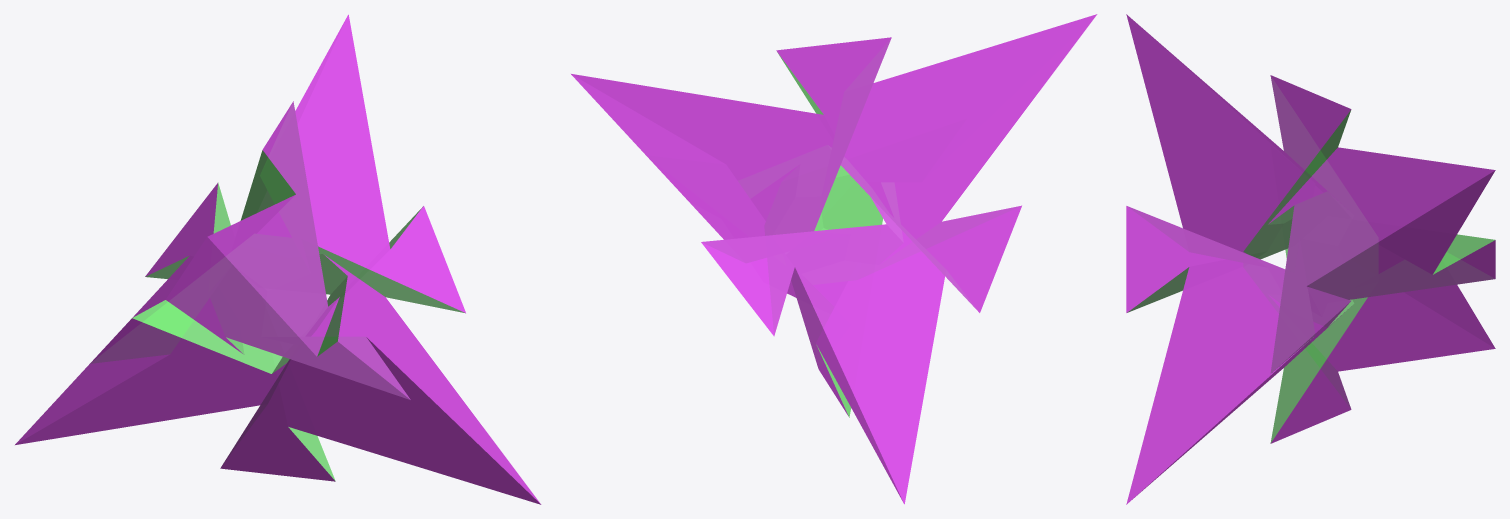
Rendered from KleinMap_A.obj.
3 renders of one model, left to right at view 1: azimuth 30°, elevation 25°; view 2: azimuth 150°, elevation 25°; view 3: azimuth 270°, elevation 25°, orthographic. The views are drawn at different scales.
Size of the model in its own units: 4.67 by 4.67 by 4.67.
